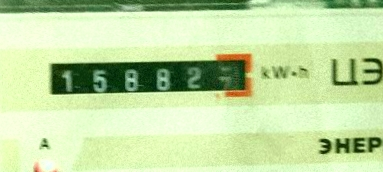1: (60, 68, 74, 93)
2: (186, 64, 202, 90)
5: (91, 68, 107, 93)
7: (217, 73, 231, 89)
8: (122, 67, 139, 91), (154, 65, 170, 90)
screen: (36, 46, 262, 108)
